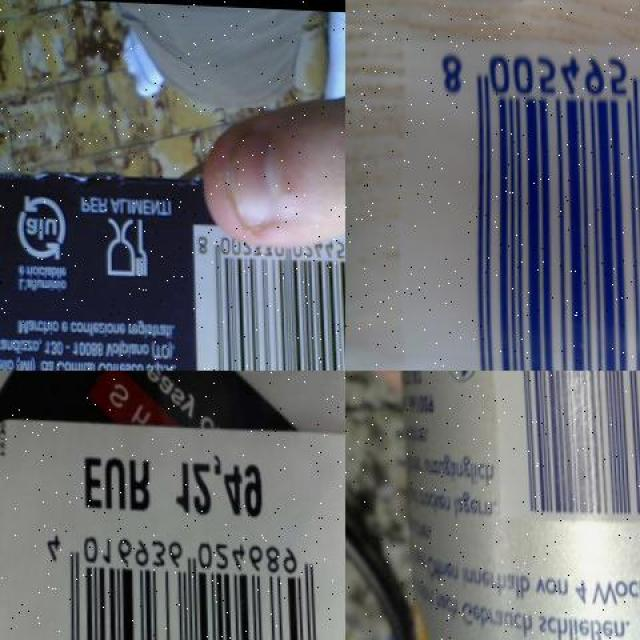Barcode: (432, 27, 640, 370), (24, 512, 345, 640), (490, 370, 640, 522), (191, 222, 345, 370)
